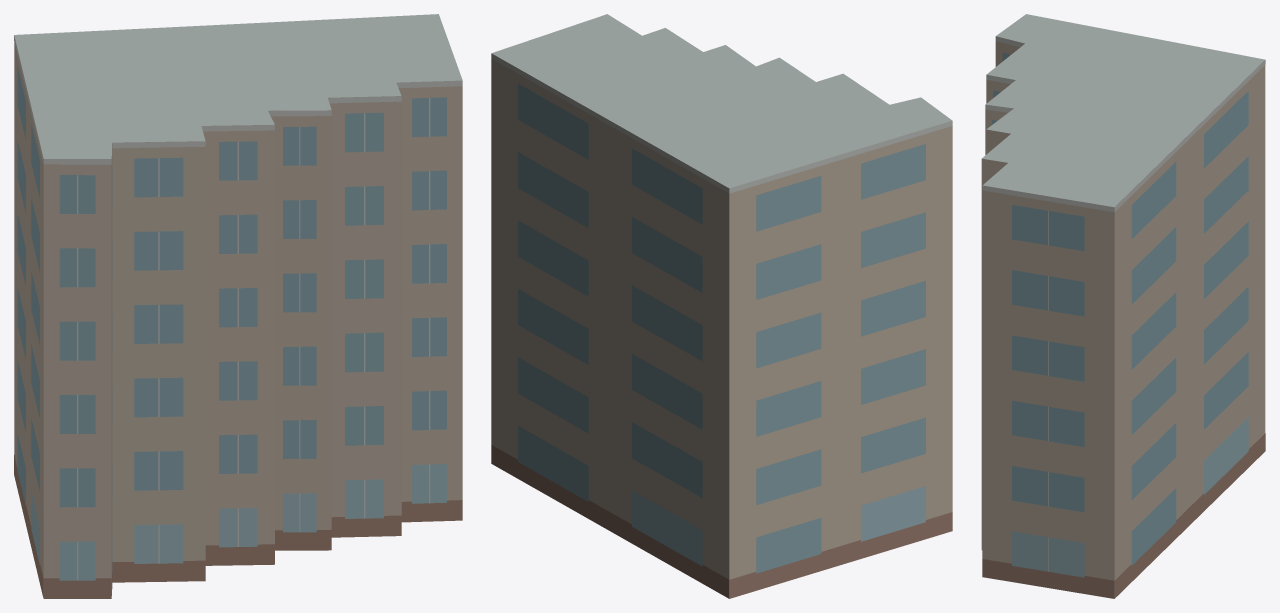
The model's file is survey-upis-32569856.glb.
3 renders of one model, left to right at view 1: azimuth 30°, elevation 25°; view 2: azimuth 150°, elevation 25°; view 3: azimuth 270°, elevation 25°, orthographic. The views are drawn at different scales.
Parts seen in each view (by area): view 1: survey-upis-32569856.tmp; view 2: survey-upis-32569856.tmp; view 3: survey-upis-32569856.tmp.
Part boxes in pixels (x1=…): survey-upis-32569856.tmp: x1=14, y1=14, x2=462, y2=598; survey-upis-32569856.tmp: x1=491, y1=14, x2=952, y2=598; survey-upis-32569856.tmp: x1=981, y1=14, x2=1265, y2=598.
Bounding box in the file's own units: 20.22 × 19.1 × 12.55.
